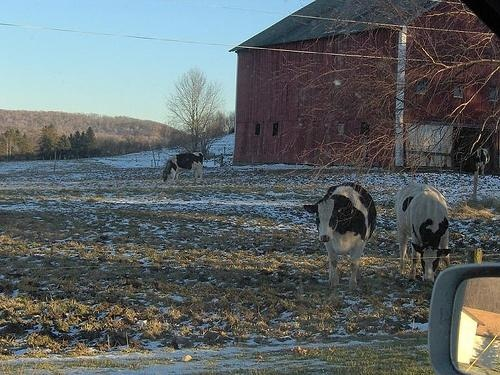cow: (305, 181, 380, 286), (398, 181, 452, 281), (164, 151, 206, 182)
